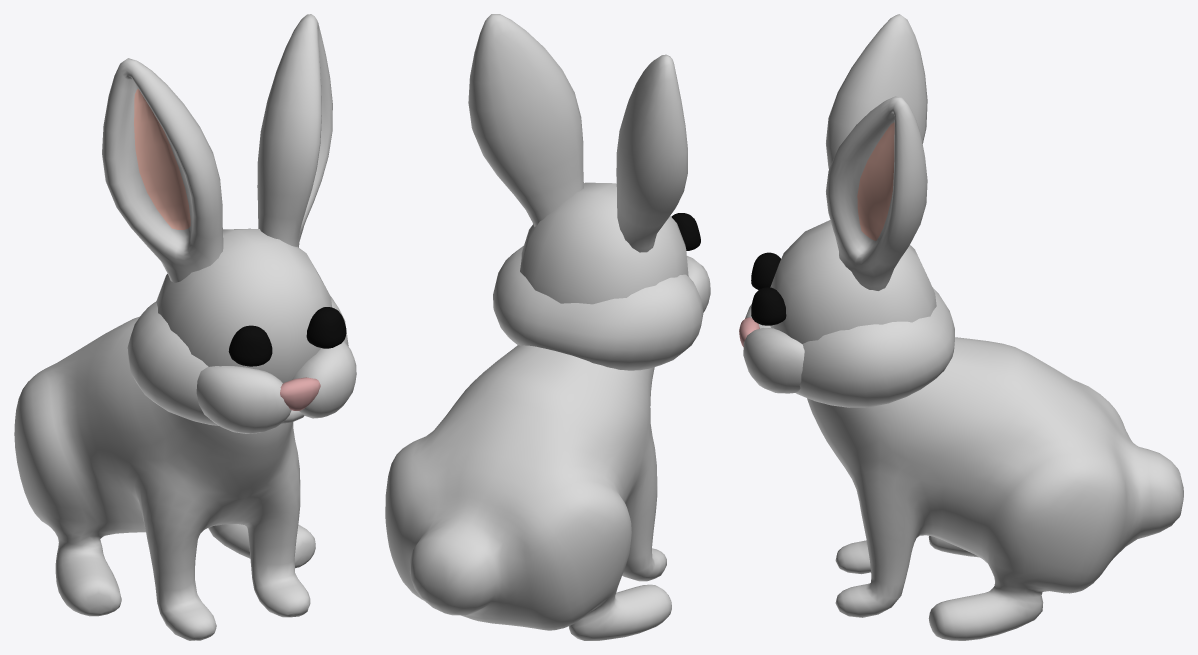
Rendered from Bunny.glb.
3 renders of one model, left to right at view 1: azimuth 30°, elevation 25°; view 2: azimuth 150°, elevation 25°; view 3: azimuth 270°, elevation 25°, orthographic. The views are drawn at different scales.
Visible parts, largest first — view 1: Cube001, Cube001_3, Cube001_2, Eyes_Bunny, Cube001_1; view 2: Cube001, Cube001_3, Eyes_Bunny; view 3: Cube001, Cube001_3, Cube001_2, Eyes_Bunny.
Part boxes in pixels (x1=…): Cube001: x1=14, y1=228, x2=356, y2=640; Cube001_3: x1=102, y1=14, x2=332, y2=282; Cube001_2: x1=134, y1=89, x2=190, y2=229; Eyes_Bunny: x1=228, y1=307, x2=346, y2=366; Cube001_1: x1=280, y1=377, x2=320, y2=410; Cube001: x1=385, y1=182, x2=710, y2=640; Cube001_3: x1=468, y1=14, x2=687, y2=252; Eyes_Bunny: x1=671, y1=213, x2=700, y2=250; Cube001: x1=743, y1=220, x2=1183, y2=640; Cube001_3: x1=826, y1=14, x2=927, y2=290; Cube001_2: x1=857, y1=122, x2=894, y2=240; Eyes_Bunny: x1=751, y1=252, x2=786, y2=325.
Bounding box in the file's own units: 2.3 × 5.17 × 3.88.
